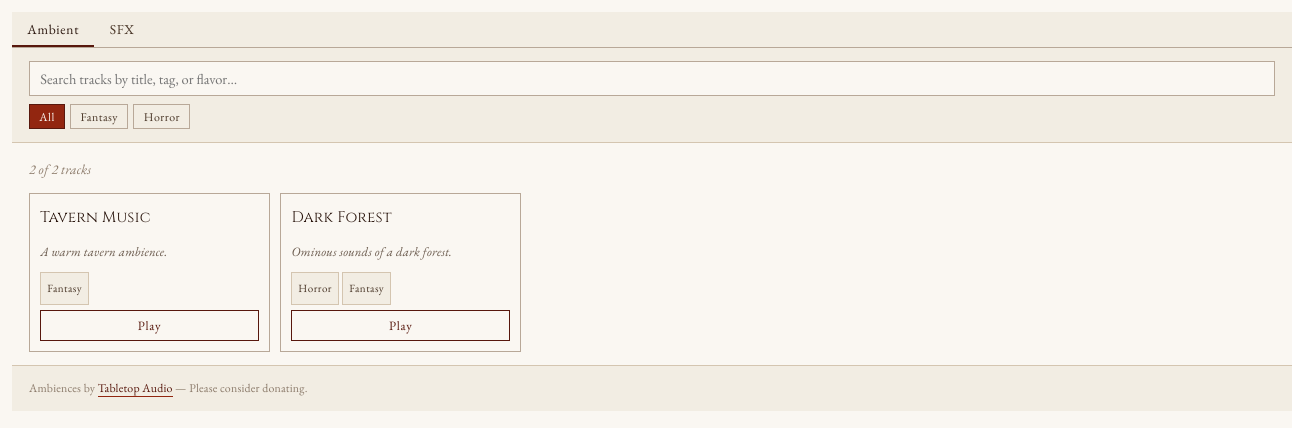
Test: Soundboard › filters tracks by genre tag chip
Check: the text "Tavern Music" is shown, box [40,207,151,228]
Click the button "Horror": (162, 116) [133,104,190,129]
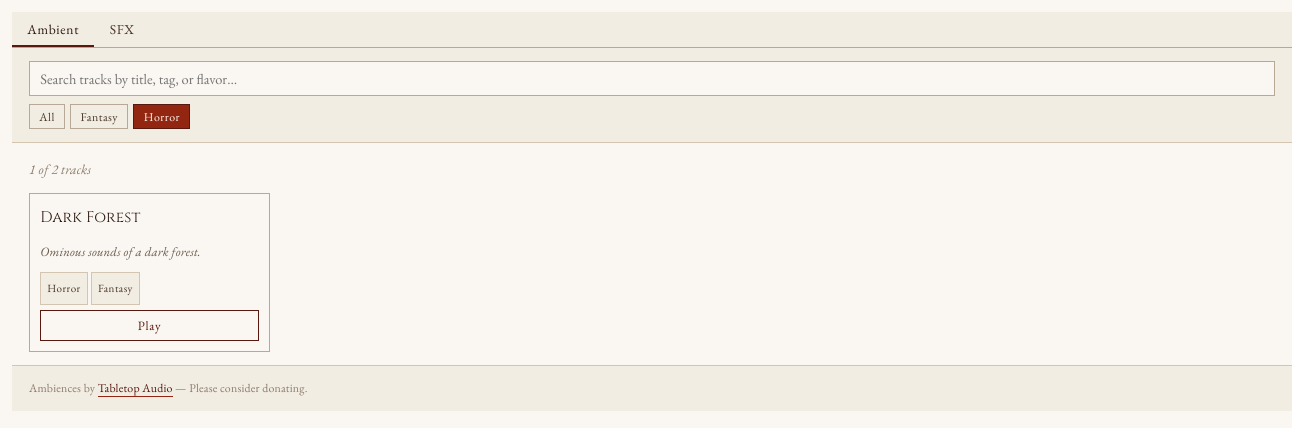
Check: the text "Dark Forest" is shown, box [40,207,141,228]
Check: the text "Tavern Music" is gone
Check: the text "1 of 2 tracks" is shown, box [29,160,91,178]
